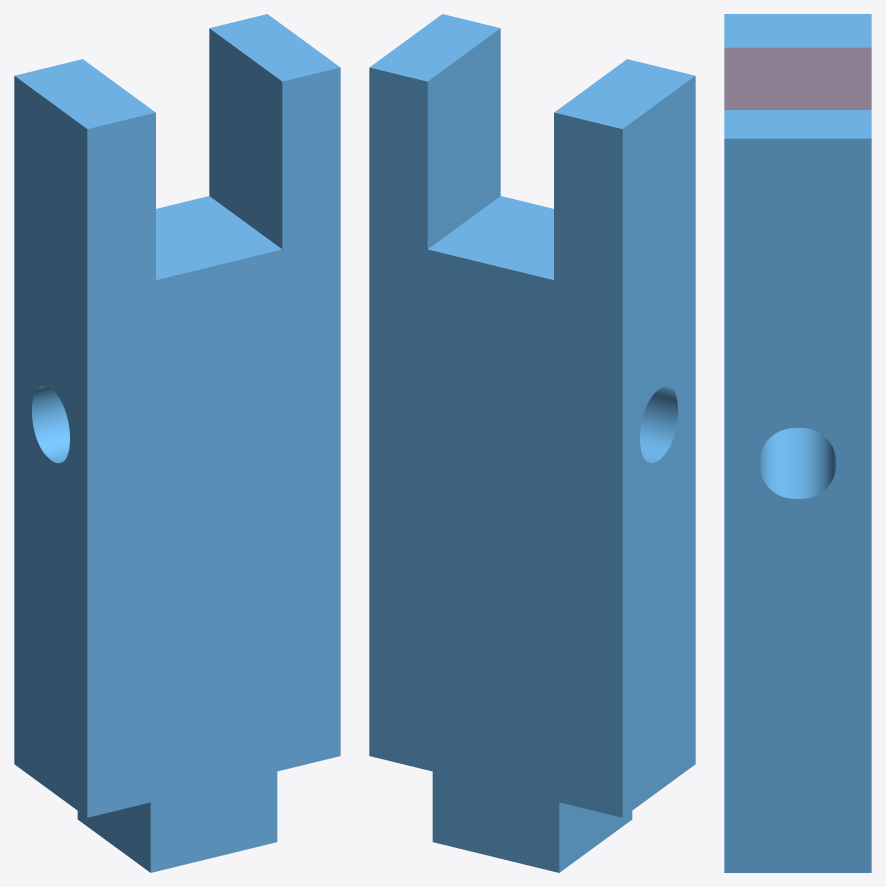
The model's file is sample_03_output.obj.
3 views of the same model, side by side, from view 1: azimuth 30°, elevation 25°; view 2: azimuth 150°, elevation 25°; view 3: azimuth 270°, elevation 25° (orthographic).
Visible parts, largest first — view 1: mesh15, mesh8, mesh16, mesh17, mesh12, mesh18, mesh4, mesh9; view 2: mesh14, mesh8, mesh16, mesh17, mesh12, mesh18, mesh4, mesh10; view 3: mesh11, mesh13, mesh6, mesh12, mesh18, mesh9, mesh10.
Boxes of the visible parts, box(x1,y1,x2,y2) form: mesh15: box(87, 67, 340, 872); mesh8: box(14, 76, 87, 817); mesh16: box(209, 28, 282, 248); mesh17: box(156, 196, 281, 279); mesh12: box(15, 59, 155, 128); mesh18: box(209, 14, 339, 81); mesh4: box(77, 802, 150, 872); mesh9: box(32, 386, 69, 459); mesh14: box(369, 67, 622, 872); mesh8: box(622, 76, 695, 817); mesh16: box(427, 28, 500, 248); mesh17: box(428, 196, 553, 279); mesh12: box(554, 59, 694, 128); mesh18: box(370, 14, 500, 81); mesh4: box(559, 802, 632, 872); mesh10: box(640, 386, 677, 459); mesh11: box(724, 138, 871, 832); mesh13: box(724, 47, 871, 109); mesh6: box(724, 833, 871, 872); mesh12: box(724, 14, 871, 47); mesh18: box(724, 110, 871, 138); mesh9: box(798, 428, 836, 498); mesh10: box(759, 428, 797, 498).
Bounding box in the file's own units: 0.000462 × 0.00132 × 0.000231.
